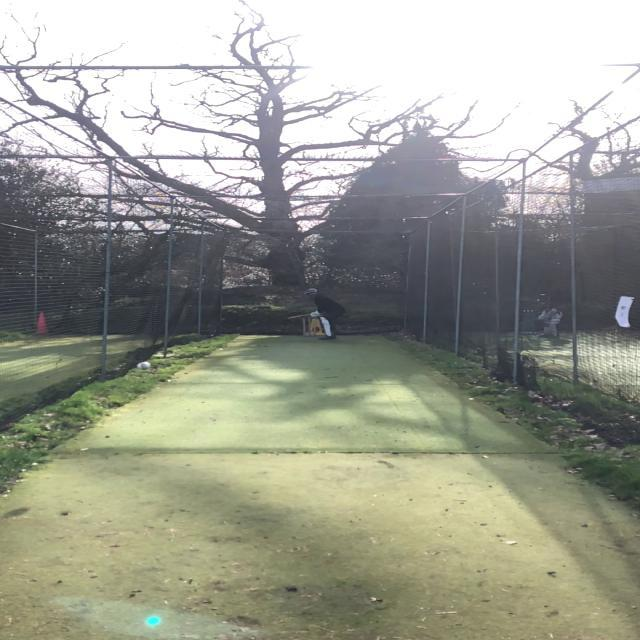ball: (136, 360, 152, 372)
